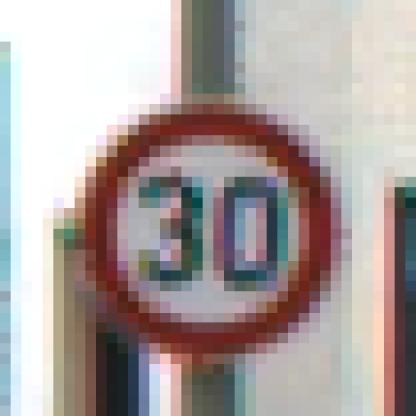Speed Limit 30: (86, 110, 332, 356)
